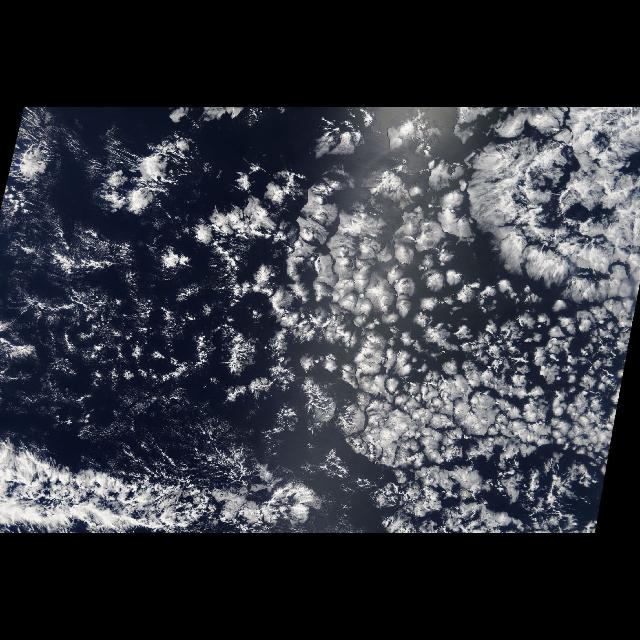Fish: (1, 438, 322, 532)
Flower: (218, 120, 624, 528)
Sugar: (27, 196, 207, 432)
